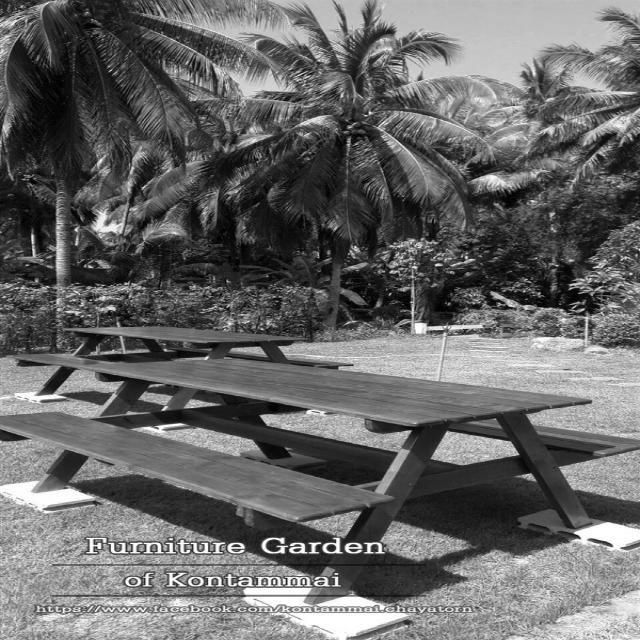table: (96, 358, 588, 454), (67, 314, 292, 352)
